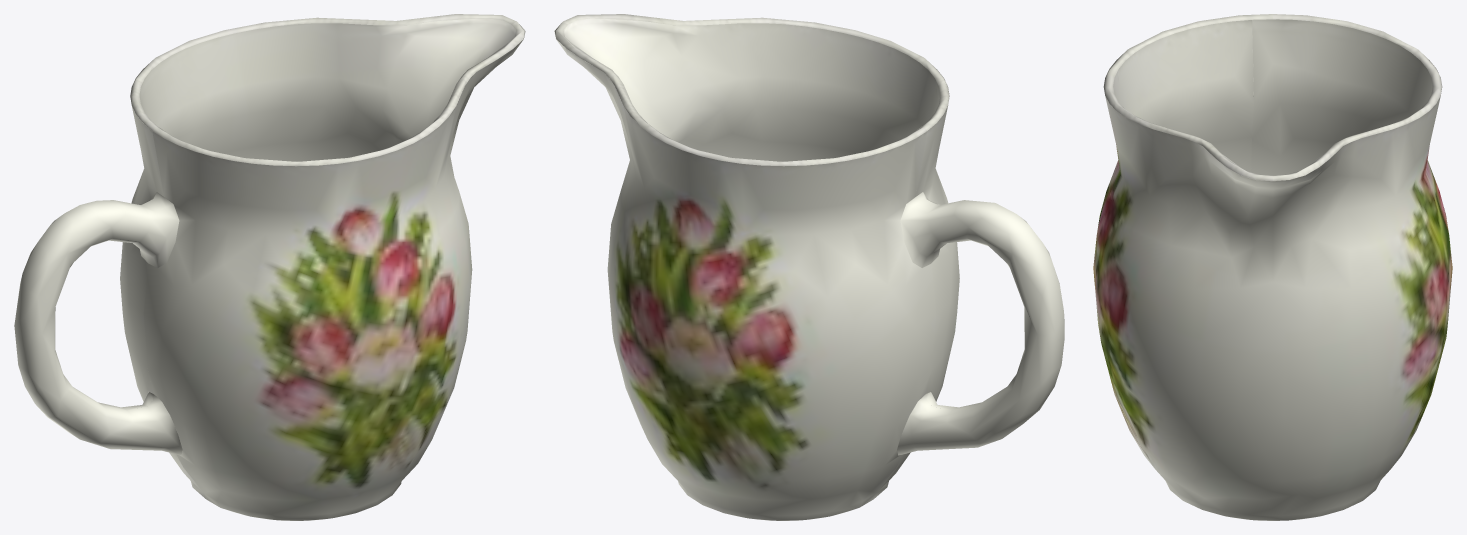
Rendered from jug_01.glb.
The picture shows the model from 3 angles, left to right: view 1: azimuth 30°, elevation 25°; view 2: azimuth 150°, elevation 25°; view 3: azimuth 270°, elevation 25°; orthographic projection. The views are drawn at different scales.
Visible parts, largest first — view 1: jug_01; view 2: jug_01; view 3: jug_01.
Part boxes in pixels (x1,y1,x2,y2): jug_01: (14,14,525,520); jug_01: (554,14,1064,520); jug_01: (1093,14,1452,520).
Size of the model in its own units: 0.2755 by 0.2114 by 0.1679.
Materials: 1 (1 with a texture image).
